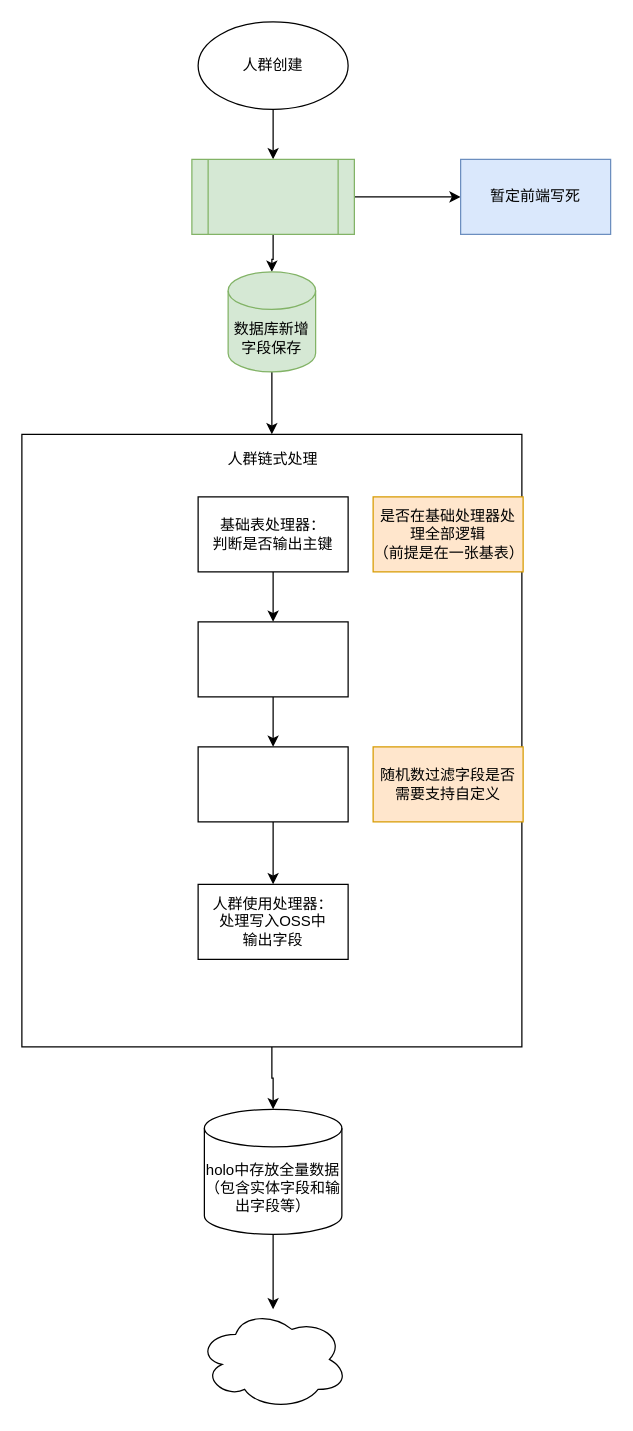
Some shapes in this 633 by 1431 pixel diagram are drawn without their labels. The centre of each missing label's shape, as x and y in pixels:
"OSS仅写入 输出字段" belongs at point 272,1358.
"扩展字段处理器： 处理原扩展字段 和输出字段" belongs at point 272,659.
"新增输出字段选择" belongs at point 272,196.
"随机数处理器： 处理随机数过滤字段" belongs at point 272,784.
